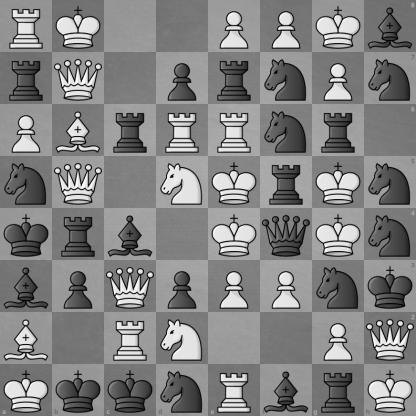B: (1, 313, 52, 364), (53, 105, 104, 156)
K: (0, 364, 52, 416), (364, 364, 416, 416), (53, 1, 104, 52), (209, 157, 260, 208), (209, 209, 260, 260), (313, 1, 364, 52), (313, 157, 364, 208), (313, 209, 364, 260)
N: (157, 157, 208, 208), (157, 313, 208, 364)
P: (1, 105, 52, 156), (209, 1, 260, 52), (209, 261, 260, 312), (261, 1, 312, 52), (261, 261, 312, 312), (313, 53, 364, 104), (313, 313, 364, 364)
Q: (364, 312, 416, 364), (53, 53, 104, 104), (53, 157, 104, 208), (105, 261, 156, 312)
R: (209, 364, 260, 416), (1, 1, 52, 52), (105, 313, 156, 364), (157, 105, 208, 156), (209, 105, 260, 156)
b: (260, 364, 312, 416), (364, 0, 416, 52), (1, 261, 52, 312), (105, 209, 156, 260)
board: (0, 0, 415, 415)
k: (52, 364, 104, 416), (104, 364, 156, 416), (364, 260, 416, 312), (1, 209, 52, 260)
n: (156, 364, 209, 416), (364, 156, 416, 209), (364, 52, 416, 104), (364, 209, 416, 260), (1, 157, 52, 208), (261, 53, 312, 104), (261, 105, 312, 156), (313, 261, 364, 312)
p: (53, 261, 104, 312), (157, 53, 208, 104), (157, 261, 208, 312)
q: (261, 209, 312, 260)
r: (312, 364, 364, 416), (1, 53, 52, 104), (53, 209, 104, 260), (105, 105, 156, 156), (209, 53, 260, 104), (261, 157, 312, 208), (313, 105, 364, 156)
